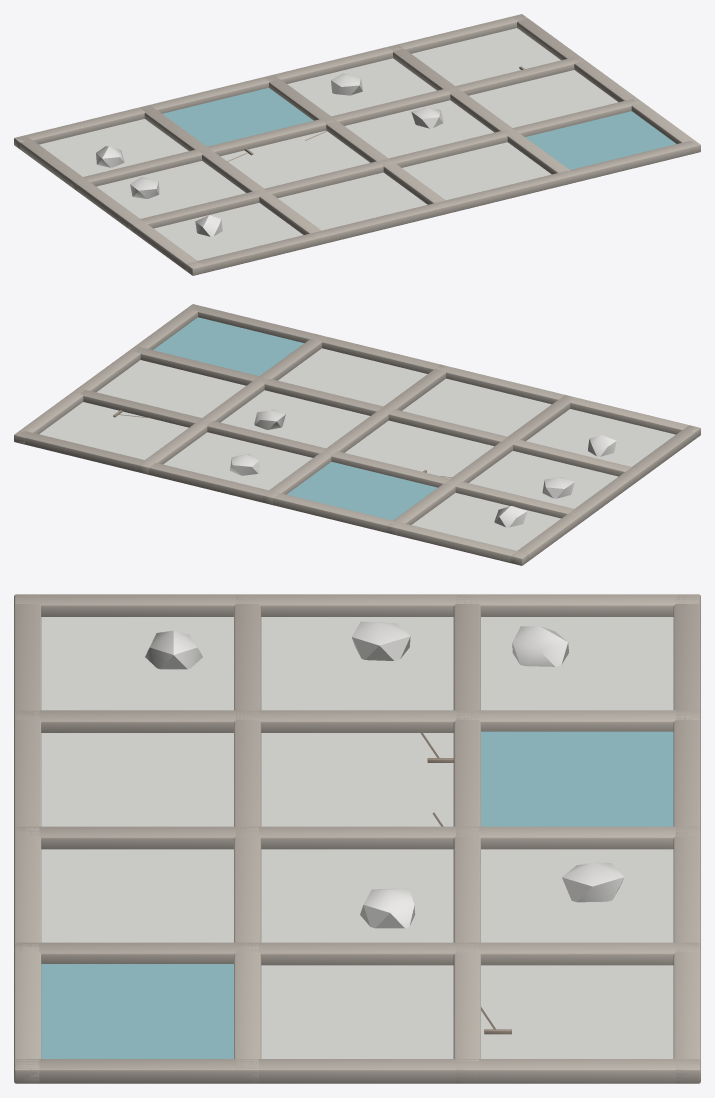
File: salt_pans.gltf
3 renders of one model, top to bottom at view 1: azimuth 30°, elevation 25°; view 2: azimuth 150°, elevation 25°; view 3: azimuth 270°, elevation 25°, orthographic. The views are drawn at different scales.
Visible parts, largest first — view 1: Body; view 2: Body; view 3: Body.
Part boxes in pixels (box(x1,y1,x2,y2)): Body: box(14, 14, 700, 275); Body: box(14, 304, 700, 565); Body: box(14, 594, 700, 1083).
Size of the model in its own units: 20.5 by 0.9348 by 12.5.
